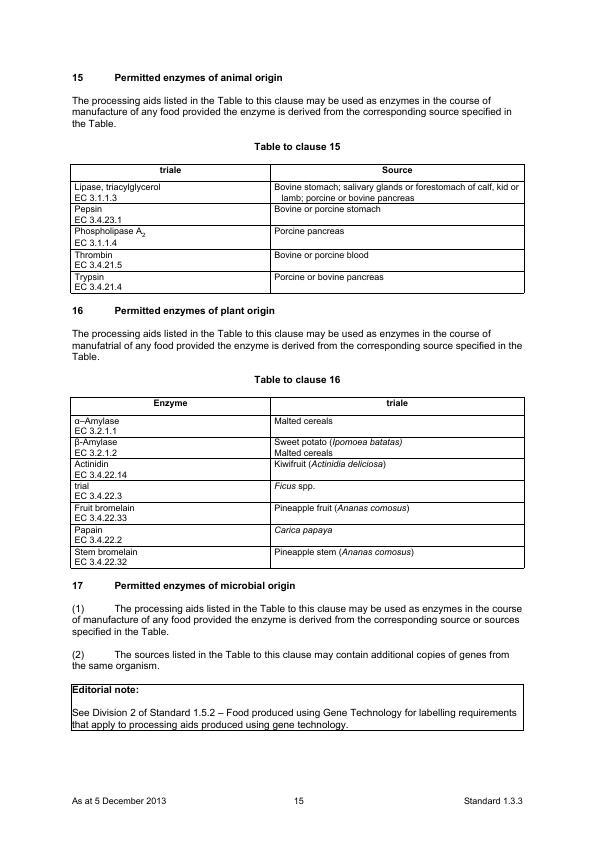table: (65, 394, 530, 571), (66, 161, 531, 299)
text: (69, 575, 527, 674), (67, 67, 517, 134), (66, 304, 539, 367), (69, 681, 518, 731), (249, 369, 344, 386), (250, 138, 345, 154)
